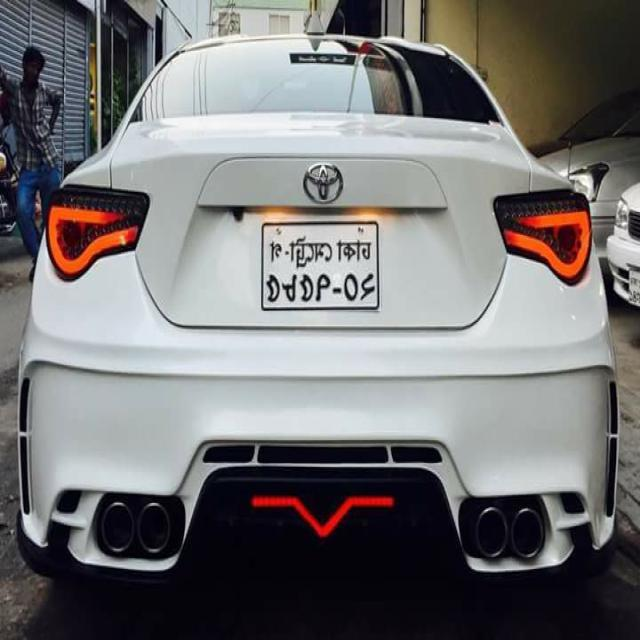numberplate: (261, 220, 381, 311)
